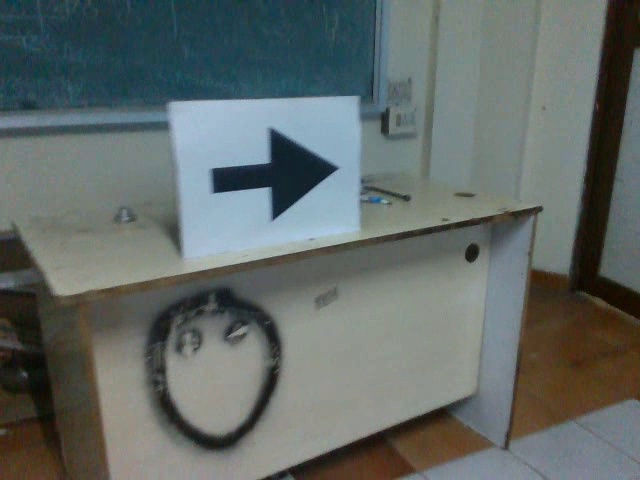Right: (198, 120, 343, 224)
